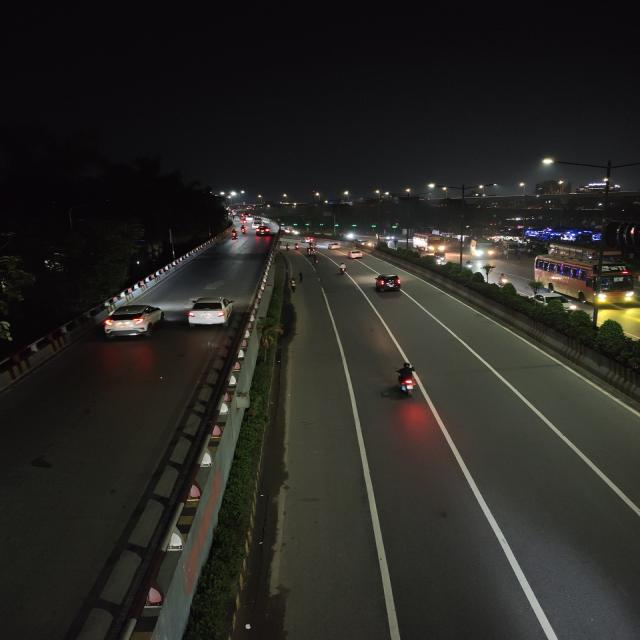bus: (534, 253, 632, 308), (415, 233, 445, 251), (469, 239, 495, 258)
car: (98, 296, 167, 342), (180, 293, 234, 333), (369, 269, 410, 295), (343, 248, 371, 261), (254, 226, 273, 237), (327, 241, 341, 251), (252, 218, 264, 229), (300, 236, 314, 243)
cng: (307, 247, 317, 256)
motorcycle: (389, 357, 427, 409), (498, 273, 509, 286), (337, 262, 347, 276), (238, 224, 247, 237), (229, 228, 238, 240), (284, 242, 293, 253), (313, 256, 319, 266), (294, 242, 300, 250)
pedestrian: (289, 277, 297, 294), (297, 271, 306, 284), (515, 253, 522, 265), (503, 248, 508, 259)
